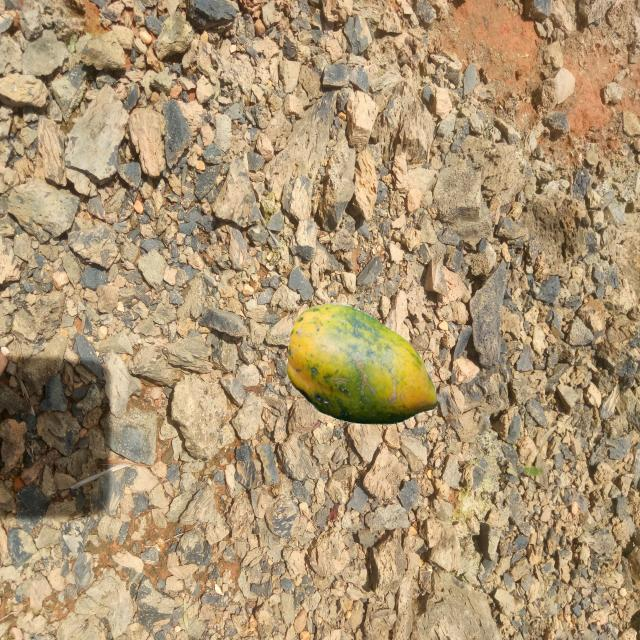Pepaya rippen: (272, 313, 443, 428)
